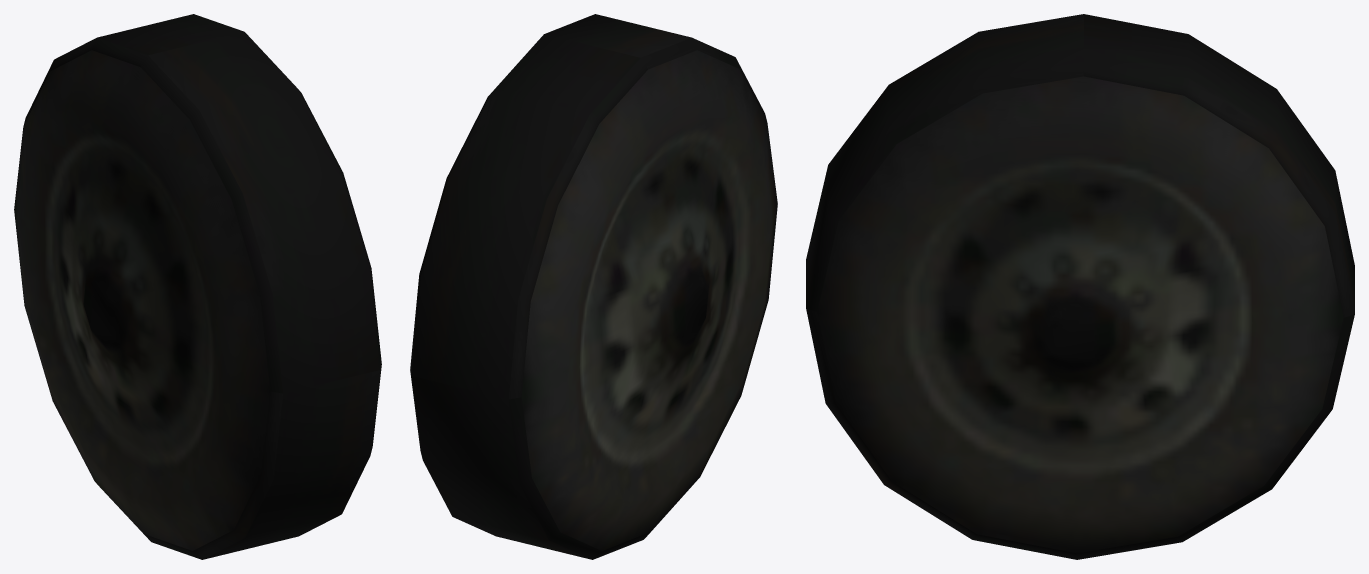
Rendered from bus_wheel.obj.
The picture shows the model from 3 angles, left to right: view 1: azimuth 30°, elevation 25°; view 2: azimuth 150°, elevation 25°; view 3: azimuth 270°, elevation 25°; orthographic projection. The views are drawn at different scales.
Visible parts, largest first — view 1: Jeep.002; view 2: Jeep.002; view 3: Jeep.002.
Boxes of the visible parts, x1,y1,x2,y2 form: Jeep.002: [14, 14, 381, 559]; Jeep.002: [410, 14, 777, 559]; Jeep.002: [806, 14, 1354, 559].
Bounding box in the file's own units: 0.8546 × 2 × 2.
1 material, 1 textured.
